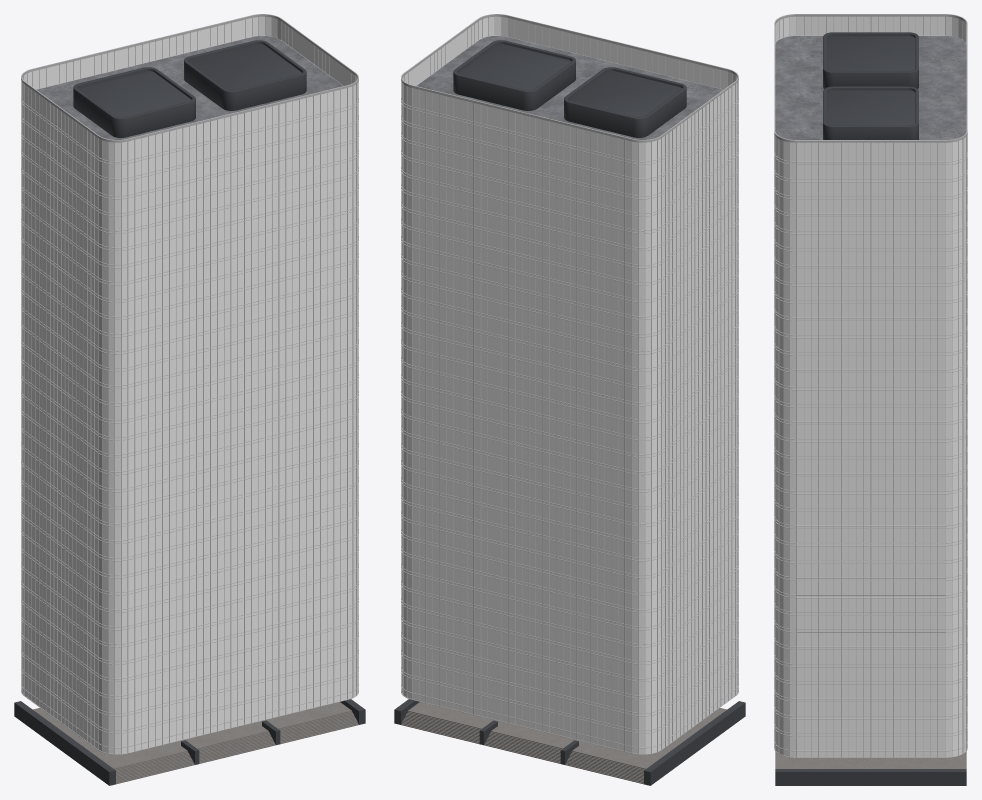
Rendered from ar02-facade.glb.
The picture shows the model from 3 angles, left to right: view 1: azimuth 30°, elevation 25°; view 2: azimuth 150°, elevation 25°; view 3: azimuth 270°, elevation 25°; orthographic projection.
Visible parts, largest first — view 1: Facade.Glass, Facade, Rooftop, Stairs, Floors; view 2: Facade.Glass, Facade, Rooftop, Stairs, Floors; view 3: Facade.Glass, Facade, Rooftop, Floors, Stairs.
Boxes of the visible parts, x1=… form: Facade.Glass: x1=22, y1=16, x2=358, y2=753; Facade: x1=21, y1=14, x2=358, y2=754; Rooftop: x1=73, y1=40, x2=306, y2=137; Stairs: x1=14, y1=699, x2=365, y2=785; Floors: x1=36, y1=36, x2=343, y2=139; Facade.Glass: x1=401, y1=16, x2=737, y2=753; Facade: x1=401, y1=14, x2=738, y2=754; Rooftop: x1=453, y1=40, x2=686, y2=137; Stairs: x1=394, y1=699, x2=745, y2=785; Floors: x1=416, y1=36, x2=723, y2=139; Facade.Glass: x1=775, y1=16, x2=966, y2=757; Facade: x1=774, y1=14, x2=967, y2=757; Rooftop: x1=823, y1=32, x2=918, y2=139; Floors: x1=775, y1=36, x2=966, y2=139; Stairs: x1=775, y1=751, x2=966, y2=785.
Size of the model in its own units: 70.5 by 168 by 45.5.
6 materials, 3 textured.
